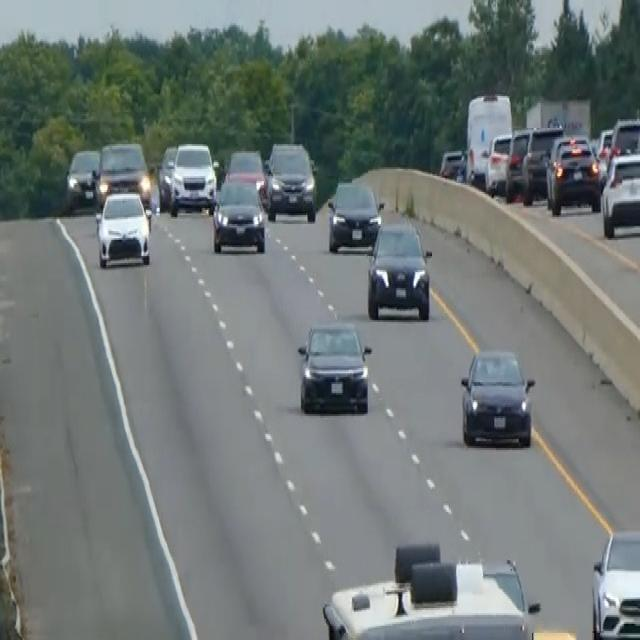bus: (320, 537, 576, 638)
car: (459, 345, 535, 448), (296, 318, 372, 414), (366, 219, 432, 320), (590, 526, 639, 638), (545, 132, 601, 215), (93, 139, 152, 217), (94, 188, 151, 268), (211, 176, 266, 254), (265, 139, 316, 222), (326, 178, 383, 252), (521, 123, 563, 205), (600, 150, 639, 238), (170, 140, 217, 213), (223, 146, 267, 204), (64, 146, 100, 208), (504, 125, 532, 199), (484, 130, 512, 194), (156, 142, 178, 210), (609, 116, 639, 156), (439, 146, 466, 181)
minibus: (463, 89, 513, 188)
